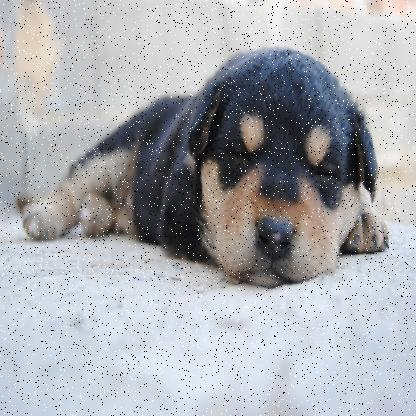dog: (160, 31, 392, 316)
